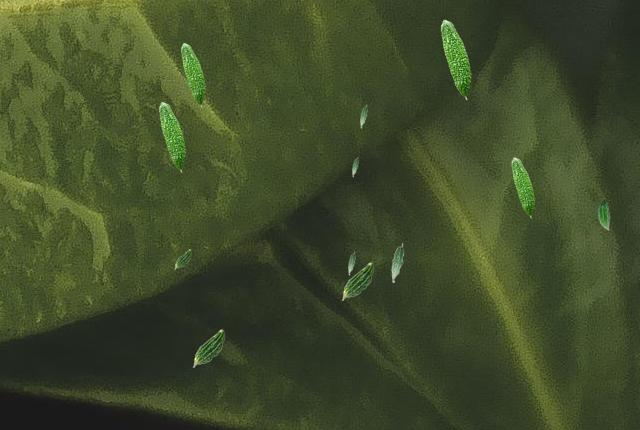ampalaya: (440, 19, 472, 100), (158, 101, 186, 173), (180, 42, 206, 108), (511, 157, 535, 218), (341, 262, 374, 301), (192, 329, 225, 368), (391, 243, 404, 283), (597, 197, 610, 230), (174, 248, 192, 270), (347, 251, 355, 275), (359, 104, 367, 128), (351, 156, 358, 177)
